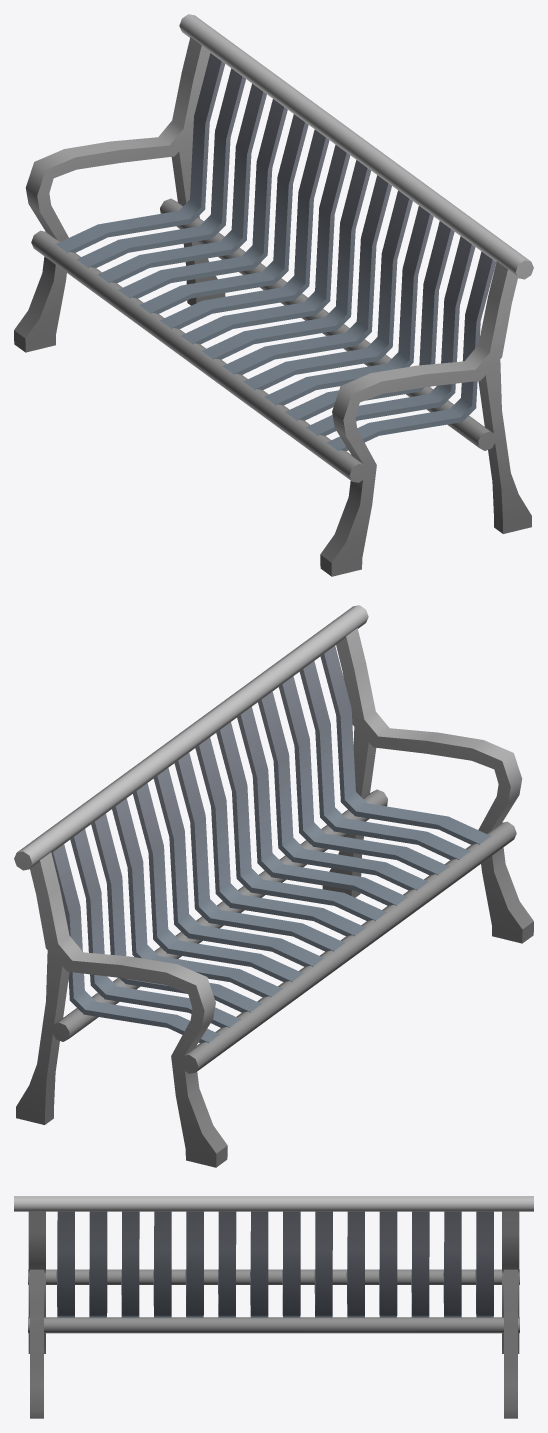
The model's file is Bench_1_A.fbx.
3 views of the same model, one above another, from view 1: azimuth 30°, elevation 25°; view 2: azimuth 150°, elevation 25°; view 3: azimuth 270°, elevation 25° (orthographic). The views are drawn at different scales.
Visible parts, largest first — view 1: Bench_1_A; view 2: Bench_1_A; view 3: Bench_1_A.
Boxes of the visible parts, box(x1,y1,x2,y2) form: Bench_1_A: box(14, 14, 533, 576); Bench_1_A: box(14, 605, 533, 1167); Bench_1_A: box(14, 1196, 533, 1418).
Bounding box in the file's own units: 67.57 × 89.25 × 195.
